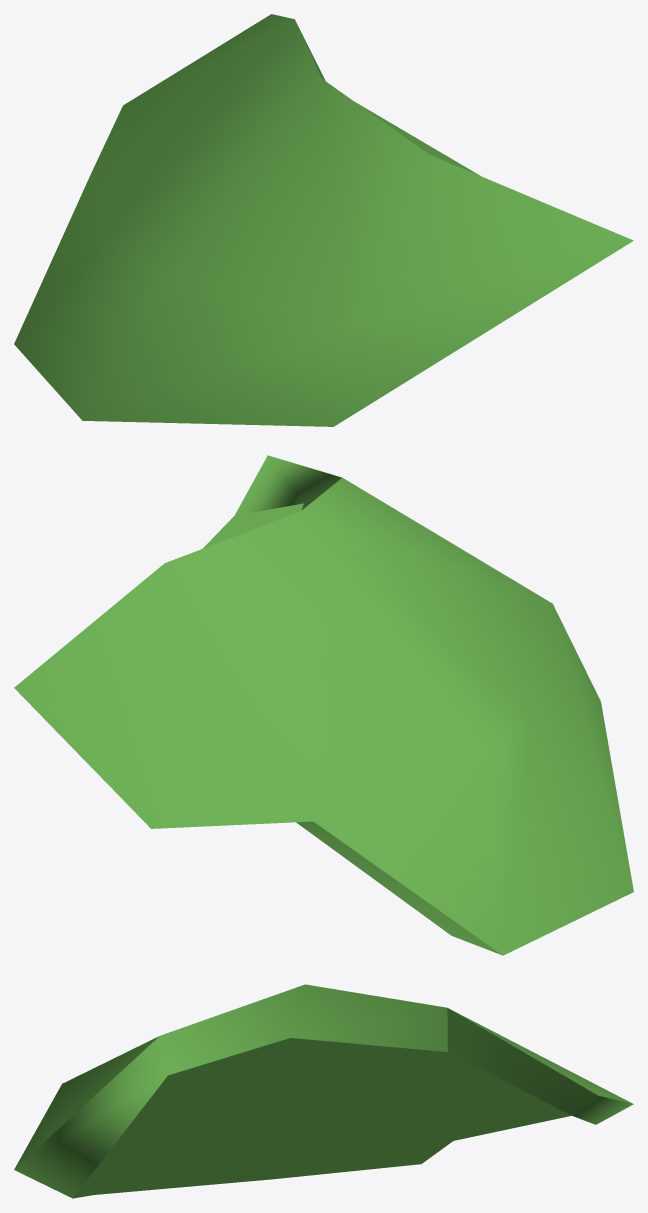
The model's file is euuuuu.fbx.
The picture shows the model from 3 angles, top to bottom: view 1: azimuth 30°, elevation 25°; view 2: azimuth 150°, elevation 25°; view 3: azimuth 270°, elevation 25°; orthographic projection. The views are drawn at different scales.
Visible parts, largest first — view 1: pCube11; view 2: pCube11; view 3: pCube11.
Part boxes in pixels (box(x1,y1,x2,y2)): pCube11: box(14, 14, 633, 426); pCube11: box(14, 455, 633, 955); pCube11: box(14, 984, 633, 1198).
Bounding box in the file's own units: 22.99 × 14.3 × 28.3.
